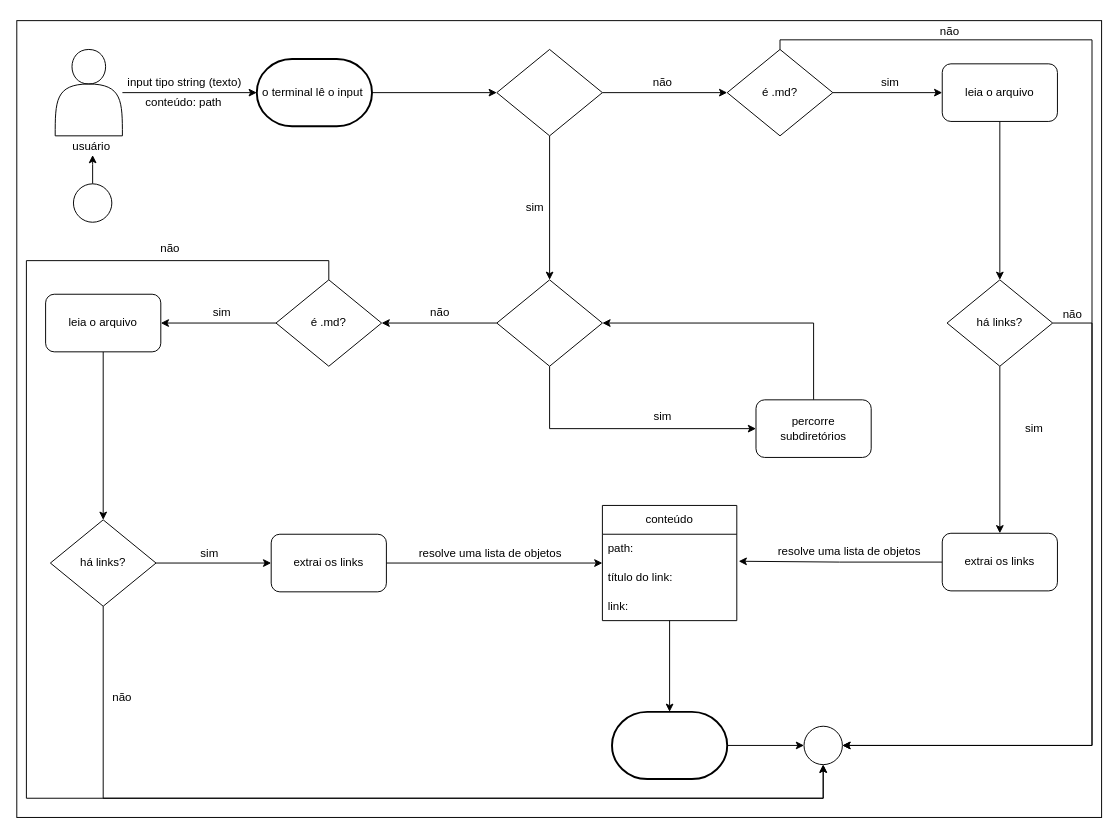
Image size: 1118x834. Some labels were removed from this diagram. The box of each missing label's shape, as (x1, y1, x2, y2) in pixels:
Fim: (803, 725, 842, 765)
Início: (72, 183, 112, 222)
o path é relativo?: (496, 48, 602, 136)
o terminal exibe os dados: (611, 710, 728, 780)
é uma pasta?: (496, 279, 602, 366)
